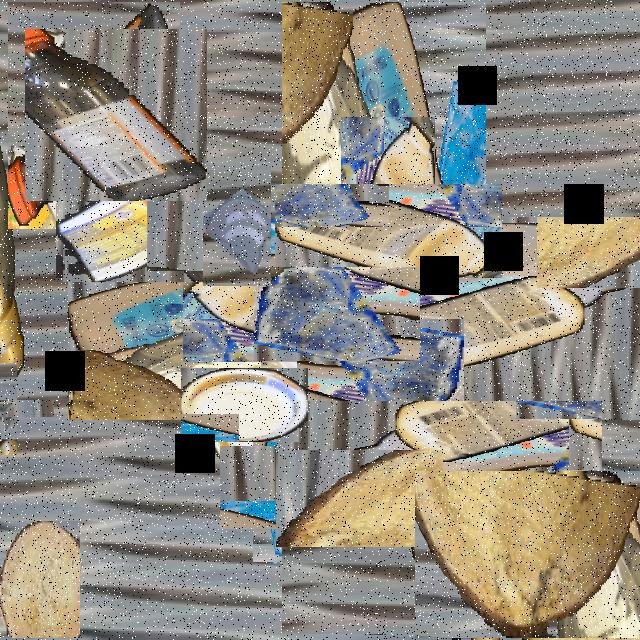glass: (272, 249, 402, 380), (236, 429, 354, 545), (203, 166, 271, 286)
metal: (393, 279, 479, 365), (0, 381, 35, 436)
plastic: (175, 109, 593, 527), (321, 356, 557, 593), (0, 15, 193, 215), (307, 151, 468, 311), (74, 165, 210, 301), (193, 355, 294, 456), (0, 2, 25, 378)
wood: (415, 471, 640, 638), (407, 450, 483, 638), (0, 521, 80, 638)
